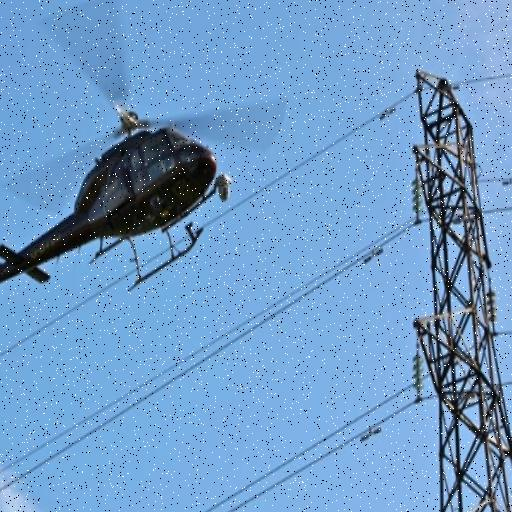helicopter: (1, 4, 280, 324)
